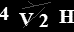2: (38, 14, 49, 28)
4: (1, 5, 9, 21)
H: (58, 9, 74, 24)
V: (17, 12, 34, 26)
